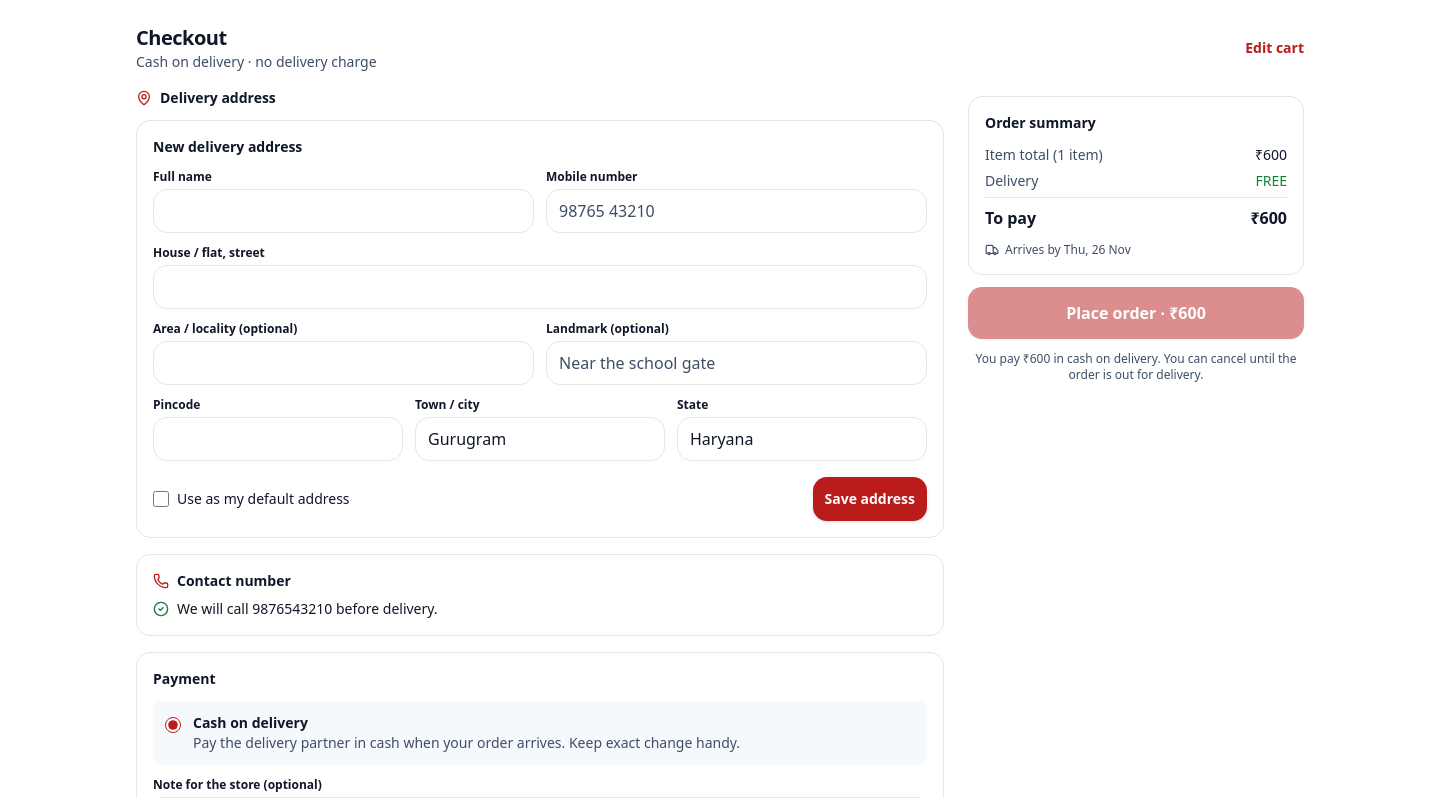
Test: CheckoutPage wallet and addresses › explains client-side validation instead of silently ignoring the submit
This screenshot has width=1440, height=798.
Click the button "Save address" at (870, 499), box x1=812 y1=477 x2=927 y2=521
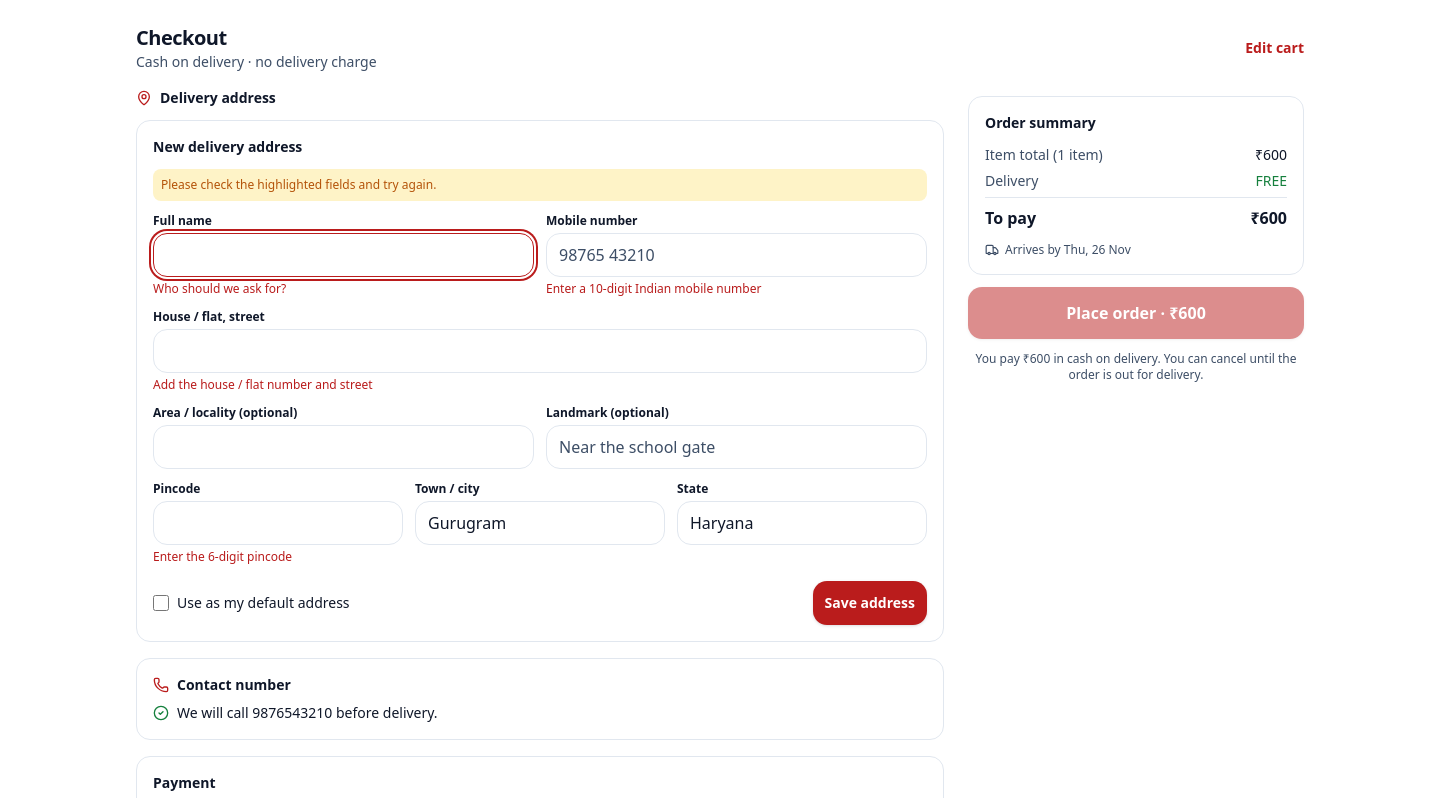
Now the message reads "Please check the highlighted fields and try again.", box x1=161 y1=176 x2=436 y2=193
Now the text "Who should we ask for?" is shown, box x1=153 y1=280 x2=286 y2=297
